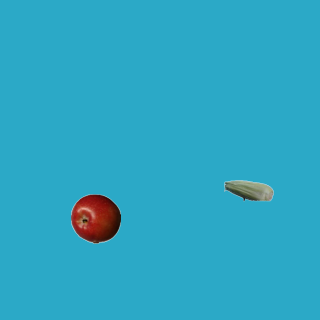Apple Braeburn: (70, 193, 120, 243)
Corn Husk: (223, 165, 273, 215)
